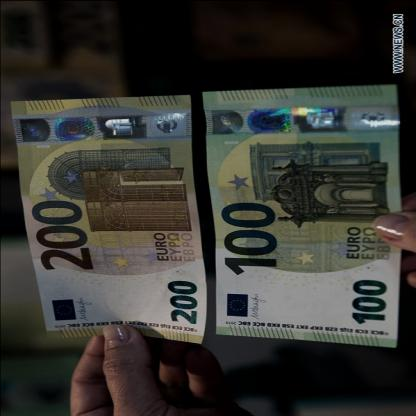euro_banknote: (173, 121, 416, 318)
